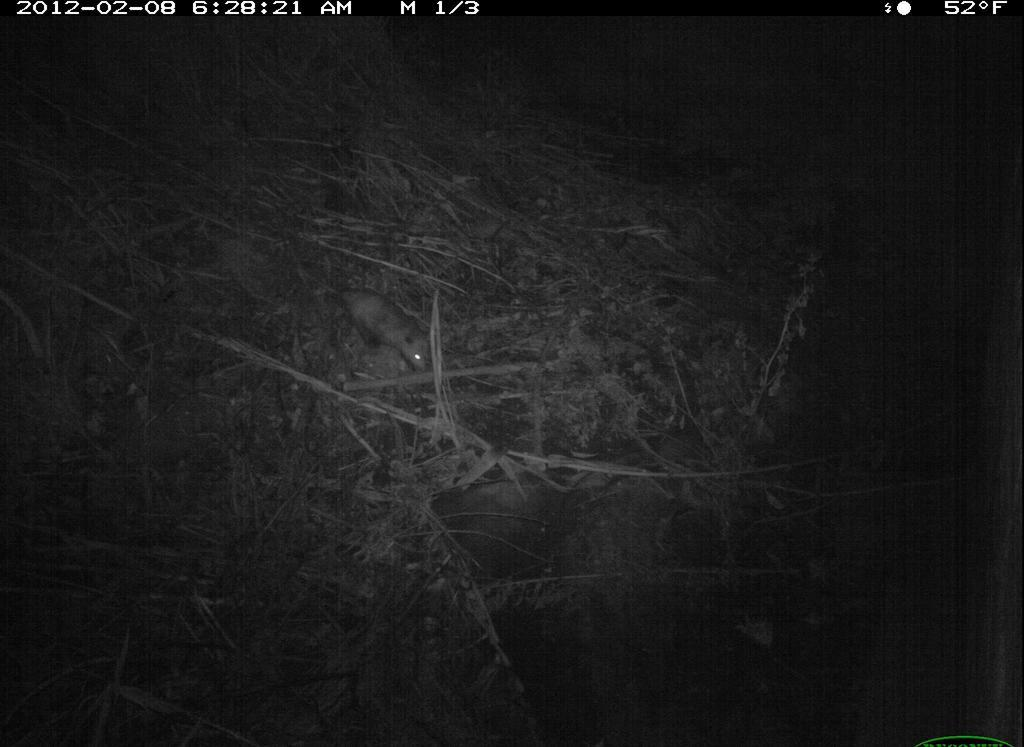opossum: (294, 264, 460, 402)
